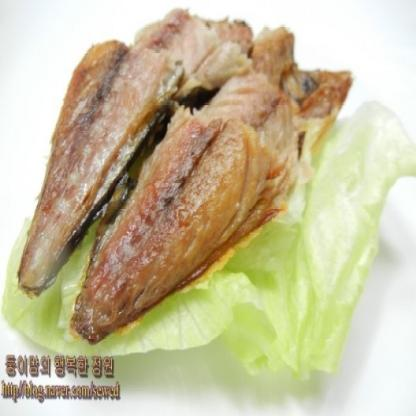Peixe: (7, 0, 368, 346)
